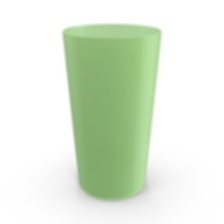glass: (55, 16, 166, 206)
